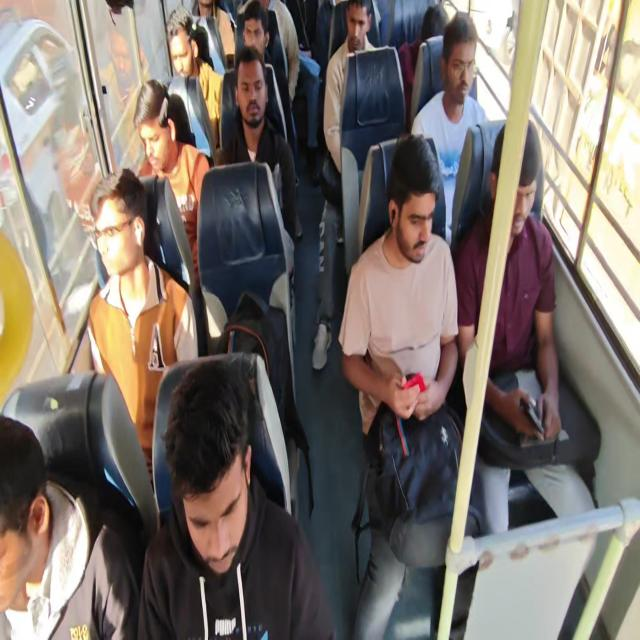person: (143, 337, 256, 562), (0, 432, 80, 640), (67, 190, 143, 322), (353, 172, 438, 237), (473, 131, 527, 230), (133, 84, 174, 184), (442, 24, 484, 110), (329, 0, 386, 54), (284, 0, 325, 69), (418, 0, 457, 51), (230, 44, 254, 118), (162, 26, 191, 85), (232, 9, 256, 46), (191, 0, 210, 37), (238, 0, 267, 14)
